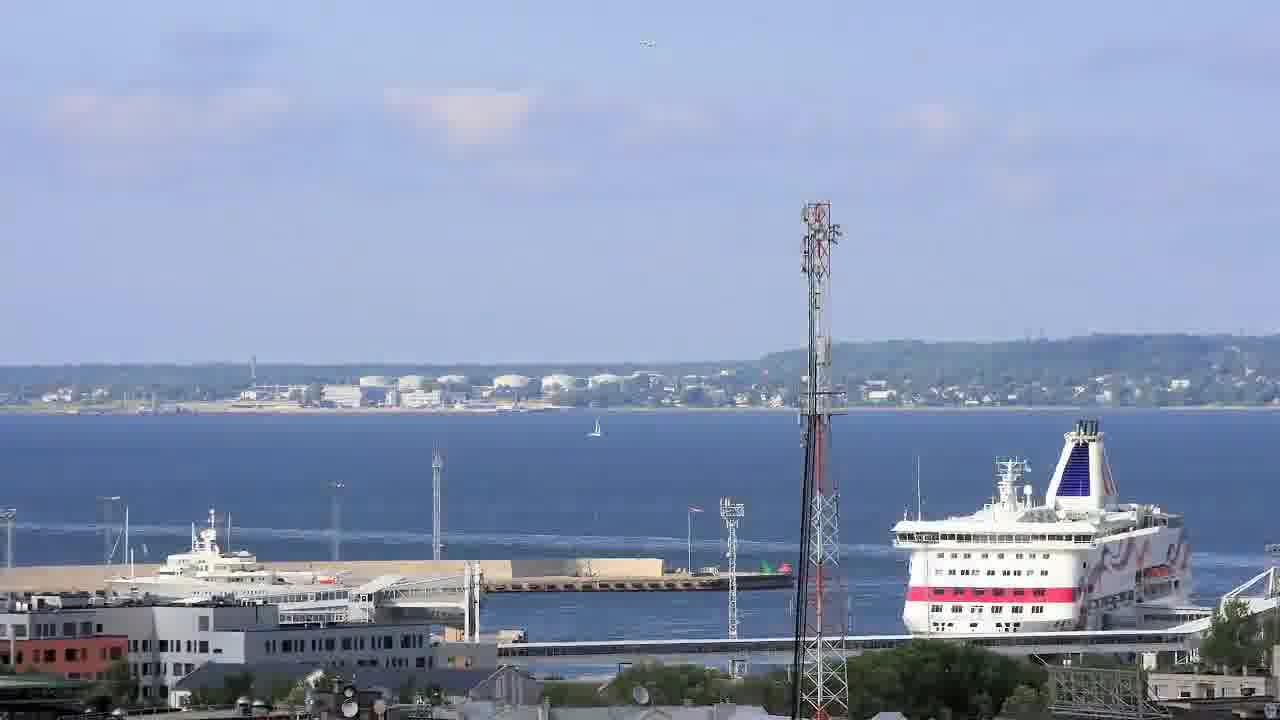type-2: (569, 398, 625, 457)
type-3: (868, 415, 1225, 638), (84, 511, 353, 609)
